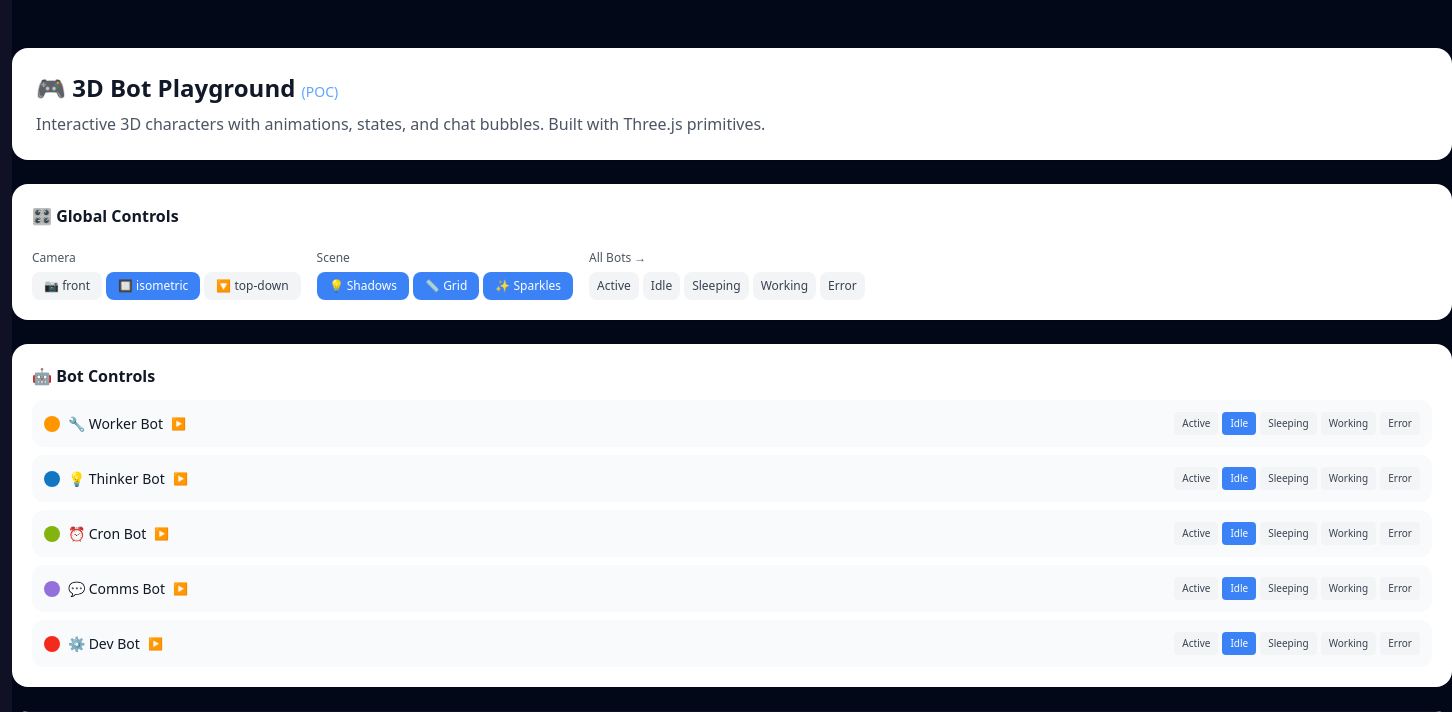
DesignLab3D › can collapse an expanded bot row
The width and height of the screenshot is (1452, 712).
Click the button "🔧 Worker Bot ▶" at (115, 424), box [44,414,186,434]
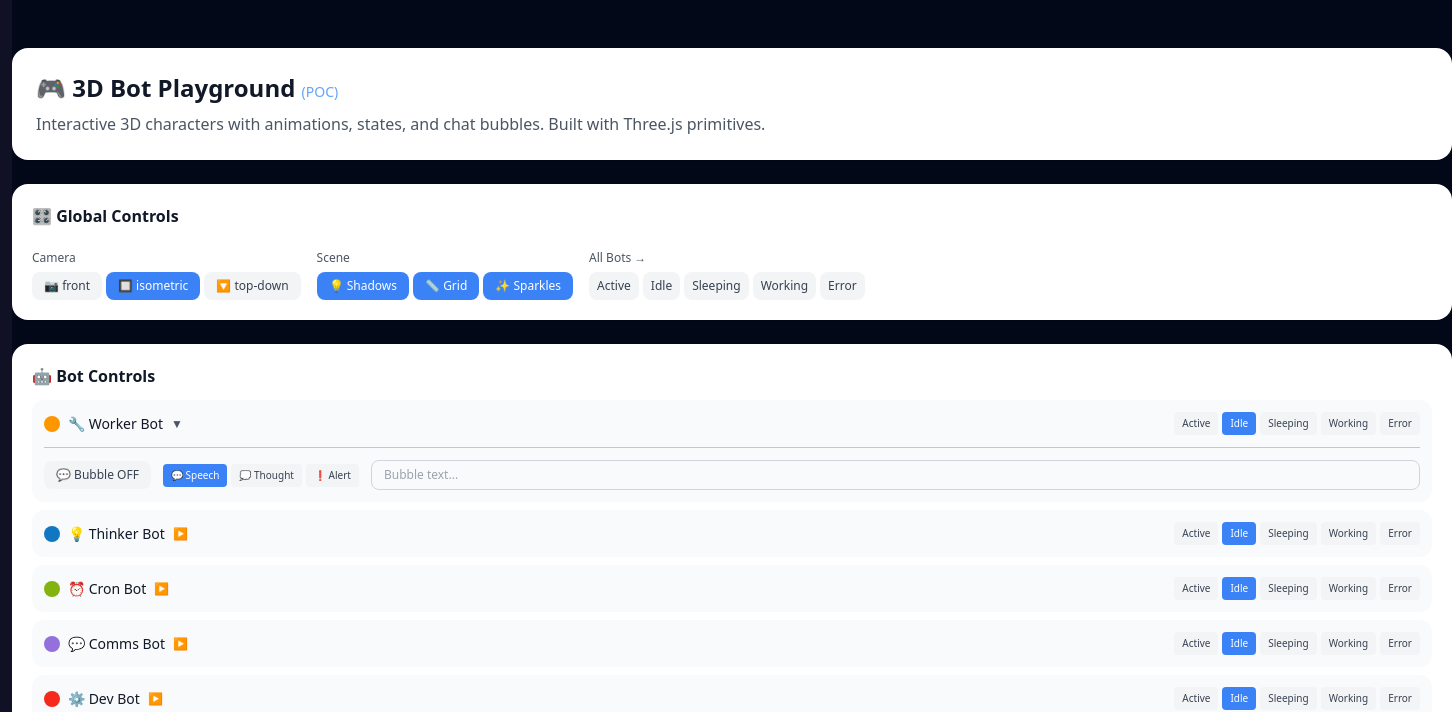
Check: the button "💬 Bubble OFF" is shown, box [44,461,151,489]
Note: Click again to collapse
Click the button "🔧 Worker Bot ▼" at (114, 424), box [44,414,183,434]
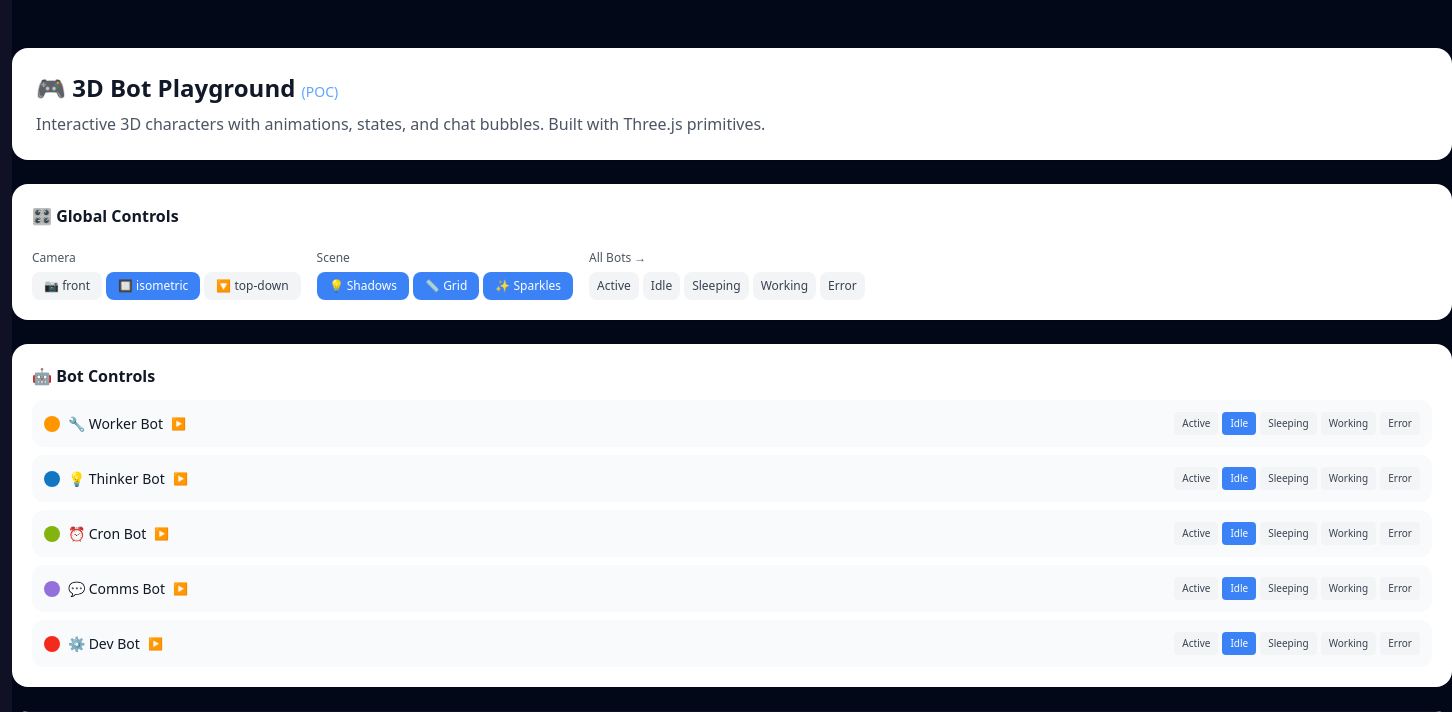
Check: no buttons "Bubble OFF" are shown
